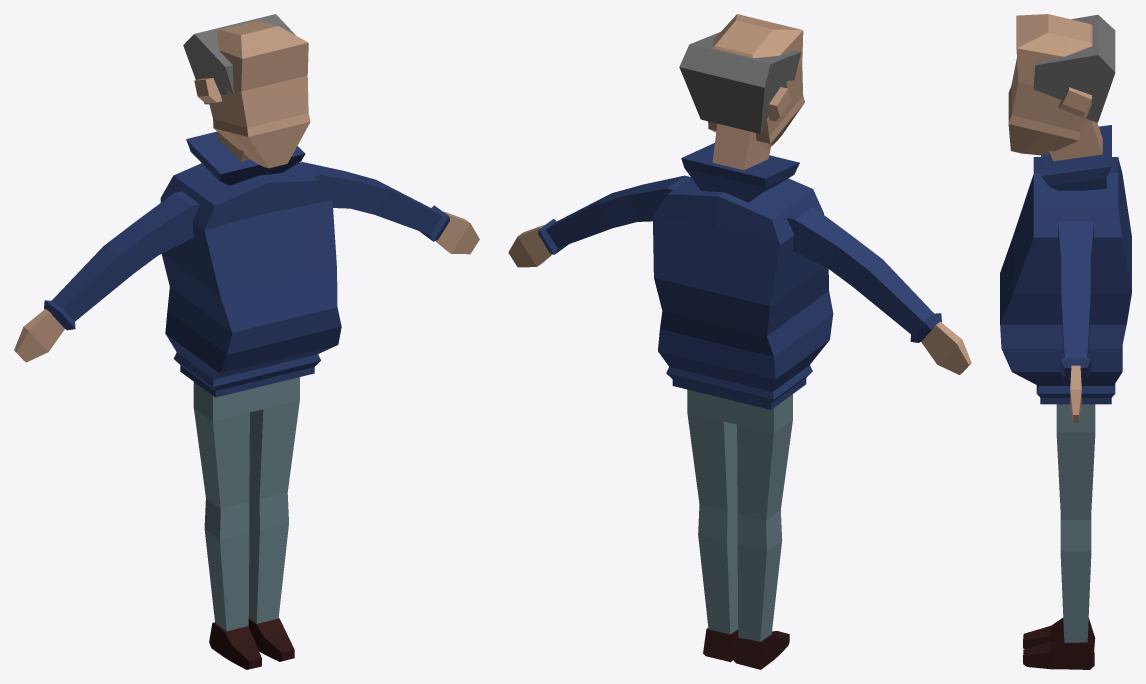
The model's file is Viejo.fbx.
The picture shows the model from 3 angles, left to right: view 1: azimuth 30°, elevation 25°; view 2: azimuth 150°, elevation 25°; view 3: azimuth 270°, elevation 25°; orthographic projection.
Visible parts, largest first — view 1: Anciano; view 2: Anciano; view 3: Anciano.
Boxes of the visible parts, x1,y1,x2,y2 form: Anciano: (14, 14, 479, 669); Anciano: (508, 14, 971, 669); Anciano: (1000, 14, 1131, 669).
Size of the model in its own units: 444 by 574 by 108.
